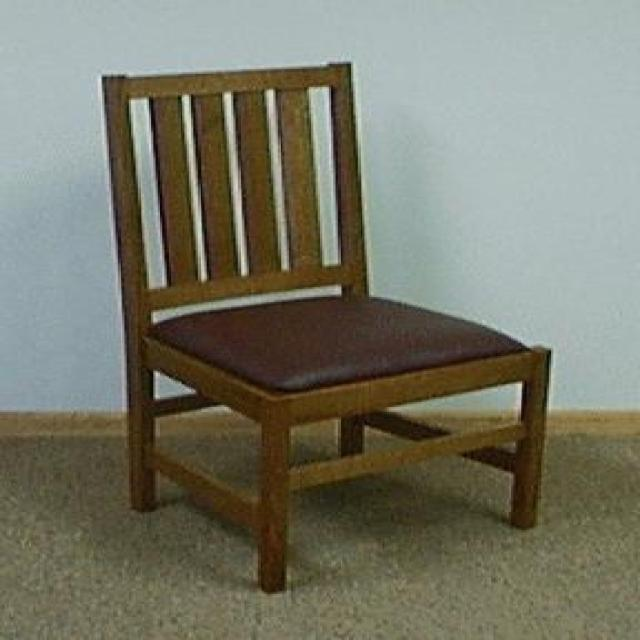chair: (98, 59, 551, 592)
